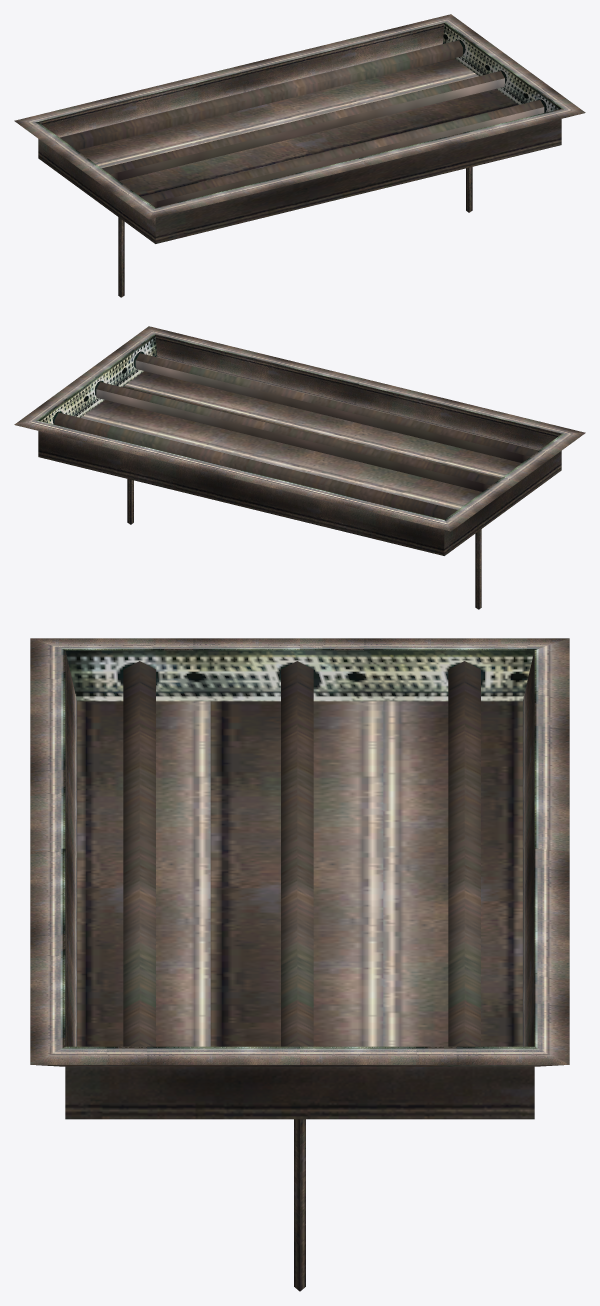
File: hanging_fluorescent.fbx
The picture shows the model from 3 angles, top to bottom: view 1: azimuth 30°, elevation 25°; view 2: azimuth 150°, elevation 25°; view 3: azimuth 270°, elevation 25°; orthographic projection. The views are drawn at different scales.
Visible parts, largest first — view 1: mesh_0; view 2: mesh_0; view 3: mesh_0.
Part boxes in pixels (box(x1,y1,x2,y2)): mesh_0: box(14, 14, 585, 297); mesh_0: box(14, 326, 585, 609); mesh_0: box(30, 638, 569, 1291).
Size of the model in its own units: 172 by 51.7 by 92.
1 material, 1 textured.
